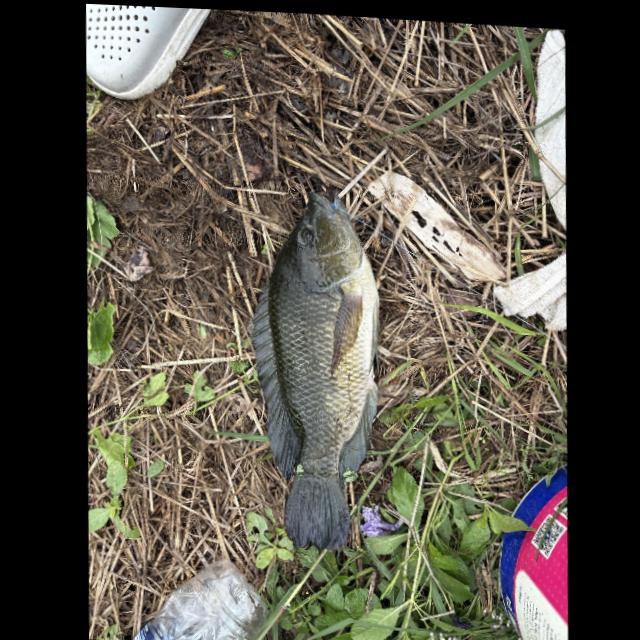Tilapia: (241, 189, 385, 553)
